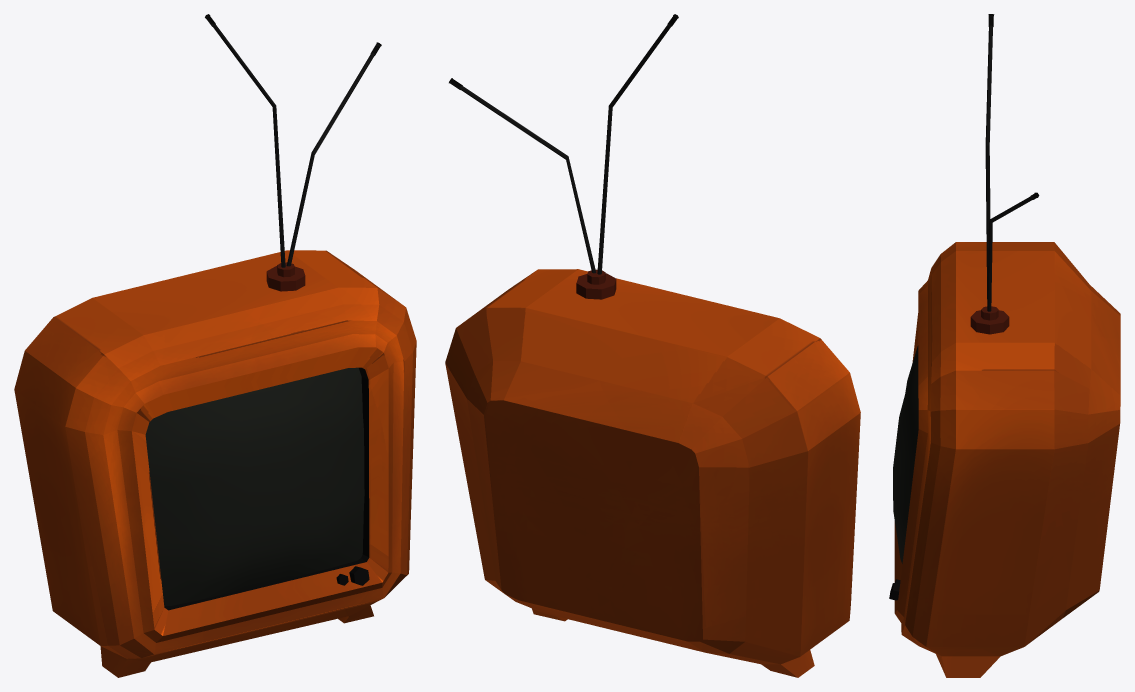
The picture shows the model from 3 angles, left to right: view 1: azimuth 30°, elevation 25°; view 2: azimuth 150°, elevation 25°; view 3: azimuth 270°, elevation 25°; orthographic projection. The views are drawn at different scales.
Visible parts, largest first — view 1: mesh_id9, mesh_id8, mesh_id5, mesh_id10, mesh_id7; view 2: mesh_id9, mesh_id5, mesh_id7; view 3: mesh_id9, mesh_id8, mesh_id5, mesh_id7.
Boxes of the visible parts, left/top/right/bottom form: mesh_id9: left=14, top=250, right=416, bottom=677; mesh_id8: left=145, top=367, right=364, bottom=605; mesh_id5: left=206, top=15, right=380, bottom=267; mesh_id10: left=164, top=367, right=369, bottom=610; mesh_id7: left=266, top=262, right=305, bottom=291; mesh_id9: left=445, top=269, right=860, bottom=677; mesh_id5: left=450, top=16, right=677, bottom=274; mesh_id7: left=576, top=269, right=616, bottom=299; mesh_id9: left=894, top=242, right=1120, bottom=677; mesh_id8: left=893, top=345, right=918, bottom=563; mesh_id5: left=985, top=15, right=1037, bottom=311; mesh_id7: left=970, top=306, right=1009, bottom=334.
Size of the model in its own units: 0.3092 by 0.512 by 0.1799.
Materials: 6 (6 with a texture image).
